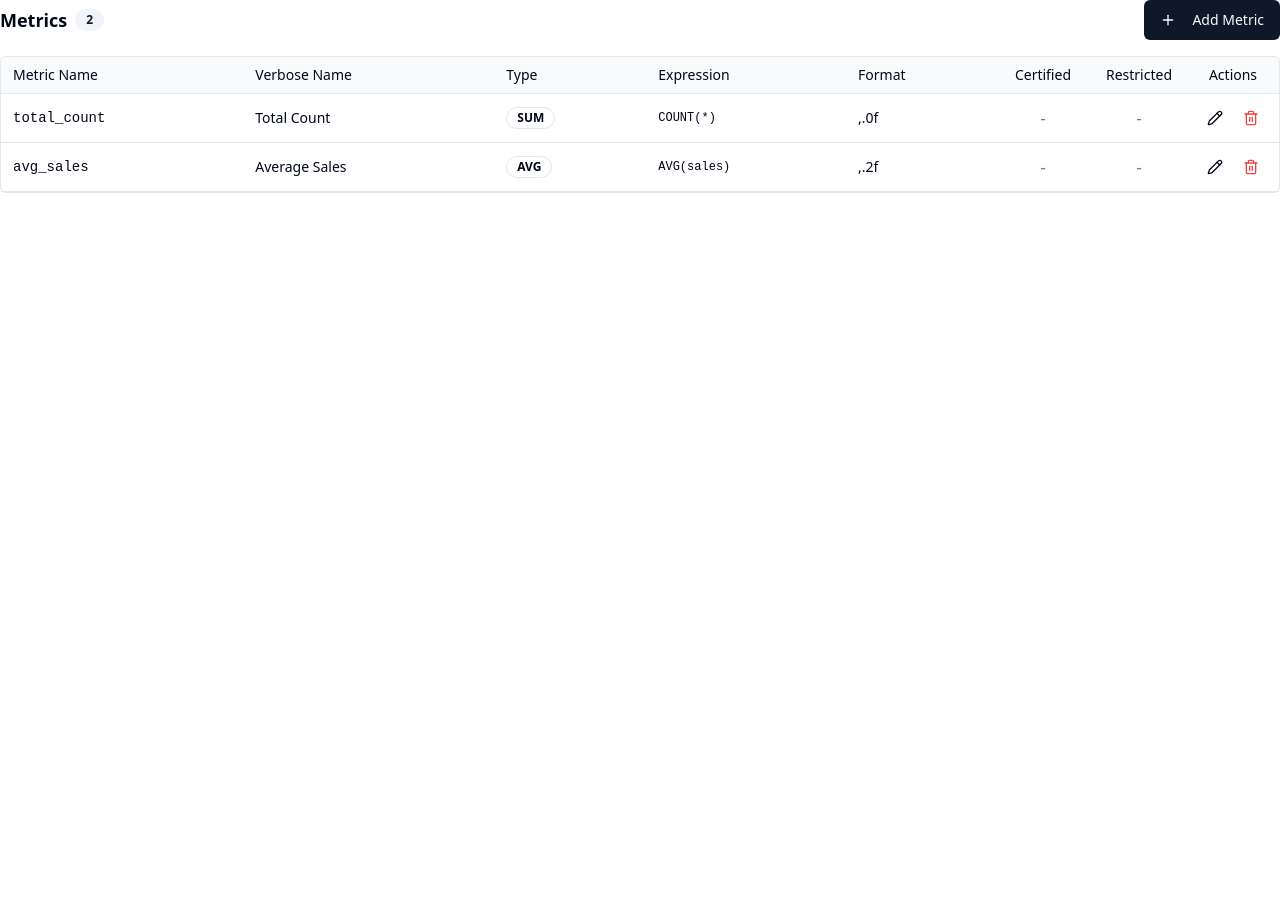
Scenario: MetricsTab › delete metric › opens delete confirmation dialog
This screenshot has width=1280, height=900.
Click the 3rd button at (1251, 118), box x1=1235 y1=102 x2=1267 y2=134
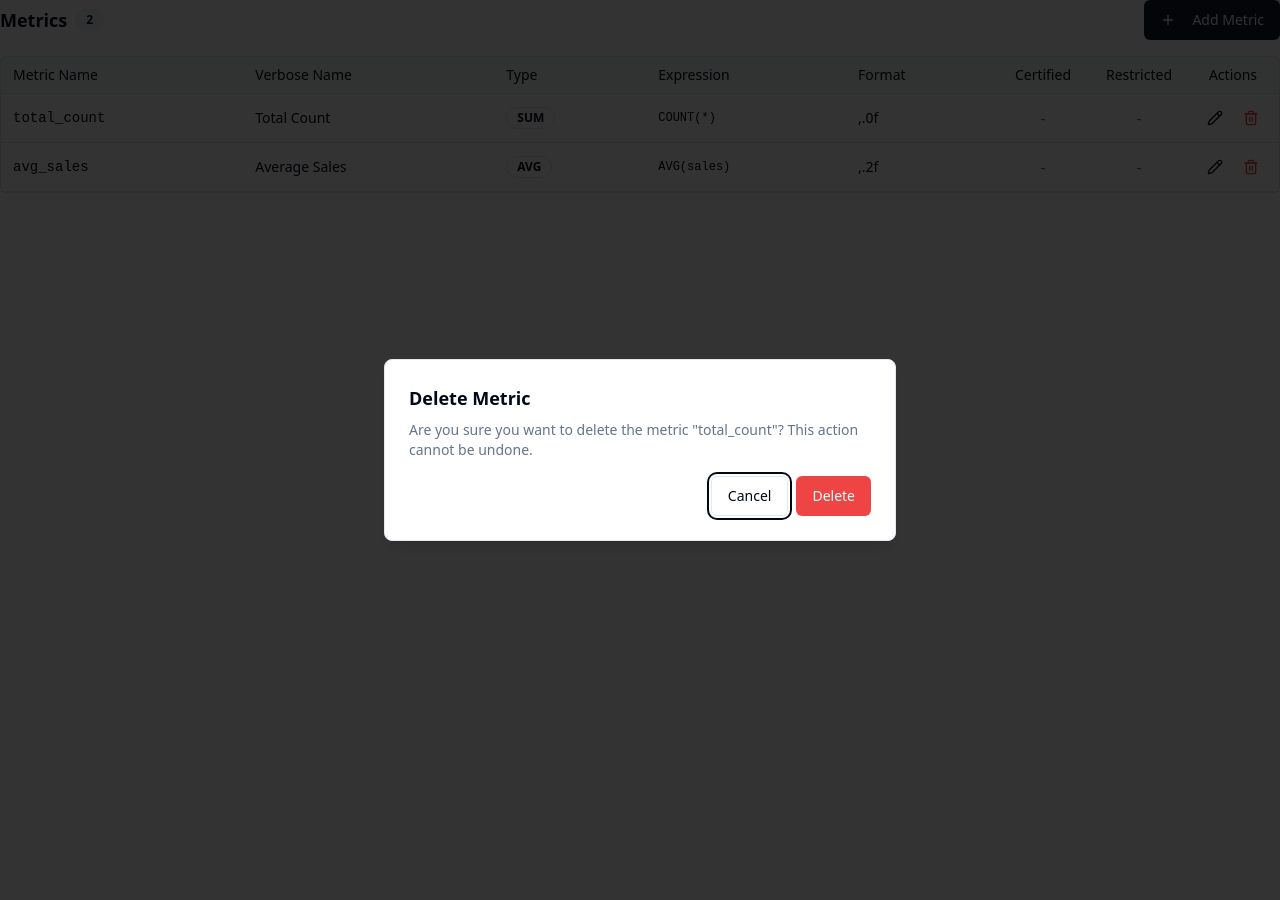
Expected: the dialog is shown, x1=384 y1=359 x2=896 y2=541
Expected: the text "delete the metric \"total_count\"" is shown, x1=409 y1=420 x2=871 y2=460
